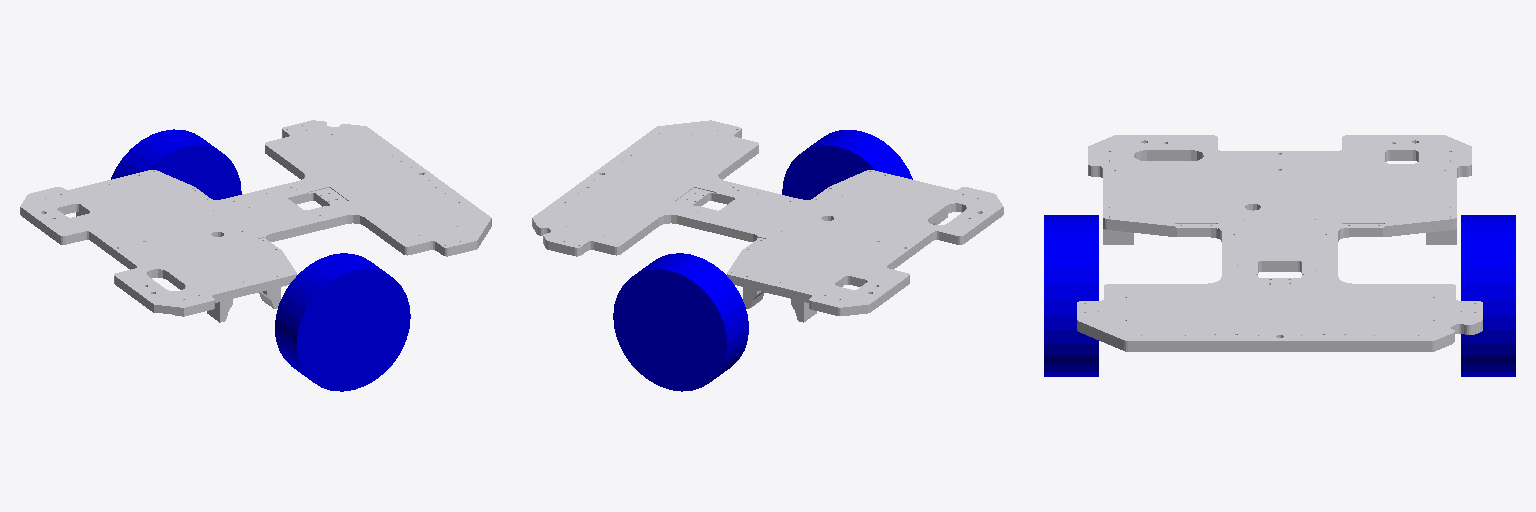
URDF robot description (clean_robot):
<?xml version="1.0" encoding="utf-8"?>
<robot name="clean_robot">

  <link name="base_footprint">
  </link>
  <joint name="base_footprint_joint" type="fixed">
    <parent link="base_footprint"/>
    <child link="base_link"/>
  </joint>

  <link name="base_link">
    <inertial>
      <origin xyz="0.00240726108493841 0.000418202039983564 0.00979407155909989" rpy="0 0 0" />
      <mass value="28.1386020223436" />
      <inertia ixx="1.02468969743477" ixy="0.0158941047042103" ixz="-0.00370358705210533" iyy="2.18751601311466" iyz="-2.28678674738598E-05" izz="3.20778172827221" />
    </inertial>
    <visual>
      <origin xyz="0 0 0" rpy="0 0 0" />
      <geometry>
        <mesh filename="package://clean_robot_urdf/meshes/base_link.STL" />
      </geometry>
      <material name="">
        <color rgba="0.866666666666667 0.866666666666667 0.890196078431372 1" />
      </material>
    </visual>
    <collision>
      <origin xyz="0 0 0" rpy="0 0 0" />
      <geometry>
        <mesh filename="package://clean_robot_urdf/meshes/base_link.STL" />
      </geometry>
    </collision>
  </link>
  <link name="left_wheel_link">
    <visual>
      <origin xyz="0 0 0" rpy="1.5708 0 0"/>
      <geometry>
        <cylinder length="0.1" radius="0.15"/>
      </geometry>
      <material name="blue">
        <color rgba="0 0 1 1"/>
      </material>
    </visual>
  </link>
  <joint name="left_wheel_joint" type="fixed">
    <origin xyz="0 0.385 -0.095500000000001" rpy="0 0 0" />
    <parent link="base_link" />
    <child link="left_wheel_link" />
    <axis xyz="0 0 0" />
  </joint>
  <link name="right_wheel_link">
    <visual>
      <origin xyz="0 0 0" rpy="1.5708 0 0"/>
      <geometry>
        <cylinder length="0.1" radius="0.15"/>
      </geometry>
      <material name="blue">
        <color rgba="0 0 1 1"/>
      </material>
    </visual>
  </link>
  <joint name="right_wheel_joint" type="fixed">
    <origin xyz="0 -0.385 -0.095500000000001" rpy="0 0 0" />
    <parent link="base_link" />
    <child link="right_wheel_link" />
    <axis xyz="0 0 0" />
  </joint>
  <link name="laser">
  </link>
  <joint name="laser_joint" type="fixed">
    <origin xyz="-0.174000000000006 0 0.94085" rpy="0 0 0" />
    <parent link="base_link" />
    <child link="laser" />
    <axis xyz="0 0 0" />
  </joint>
  <link name="gyro_link">
    <inertial>
      <origin xyz="3.1965E-05 -1.3878E-17 0.0060316" rpy="0 0 0" />
      <mass value="0.02361" />
      <inertia ixx="5.4191E-06" ixy="5.5519E-21" ixz="1.8141E-09" iyy="4.3874E-06" iyz="7.0038E-21" izz="9.3231E-06" />
    </inertial>
    <visual>
      <origin xyz="0 0 0" rpy="0 0 0" />
      <geometry>
        <mesh filename="package://clean_robot_urdf/meshes/gyro.STL" />
      </geometry>
      <material name="">
        <color rgba="0.74118 0.90196 0.95686 1" />
      </material>
    </visual>
    <collision>
      <origin xyz="0 0 0" rpy="0 0 0" />
      <geometry>
        <mesh filename="package://clean_robot_urdf/meshes/gyro.STL" />
      </geometry>
    </collision>
  </link>
  <joint name="gyro_joint" type="fixed">
    <origin xyz="0 0 0" rpy="0 0 1.5708" />
    <parent link="base_link" />
    <child link="gyro_link" />
    <axis xyz="0 0 0" />
  </joint>
</robot>

--- Render facts (derived) ---
3 views of the same robot in one strip: view 1: azimuth 30°, elevation 25°; view 2: azimuth 150°, elevation 25°; view 3: azimuth 270°, elevation 25° (orthographic).
Robot: clean_robot — 6 links, 5 joints (5 fixed); root link base_footprint; default pose: every joint at zero.
Visible links, largest first — view 1: base_link, right_wheel_link, left_wheel_link; view 2: base_link, left_wheel_link, right_wheel_link; view 3: base_link, left_wheel_link, right_wheel_link.
Link boxes in pixels (x1,y1,x2,y2): base_link: (20, 120, 491, 322); right_wheel_link: (275, 253, 410, 391); left_wheel_link: (111, 129, 241, 199); base_link: (532, 120, 1003, 322); left_wheel_link: (613, 253, 748, 391); right_wheel_link: (782, 130, 912, 199); base_link: (1077, 135, 1482, 351); left_wheel_link: (1461, 215, 1515, 376); right_wheel_link: (1044, 215, 1098, 376).
Size in the robot's own frame: 0.9 by 0.87 by 0.3 metres.
Meshes: 2 distinct files referenced, 2 mesh visuals loaded (2 binary STL).
